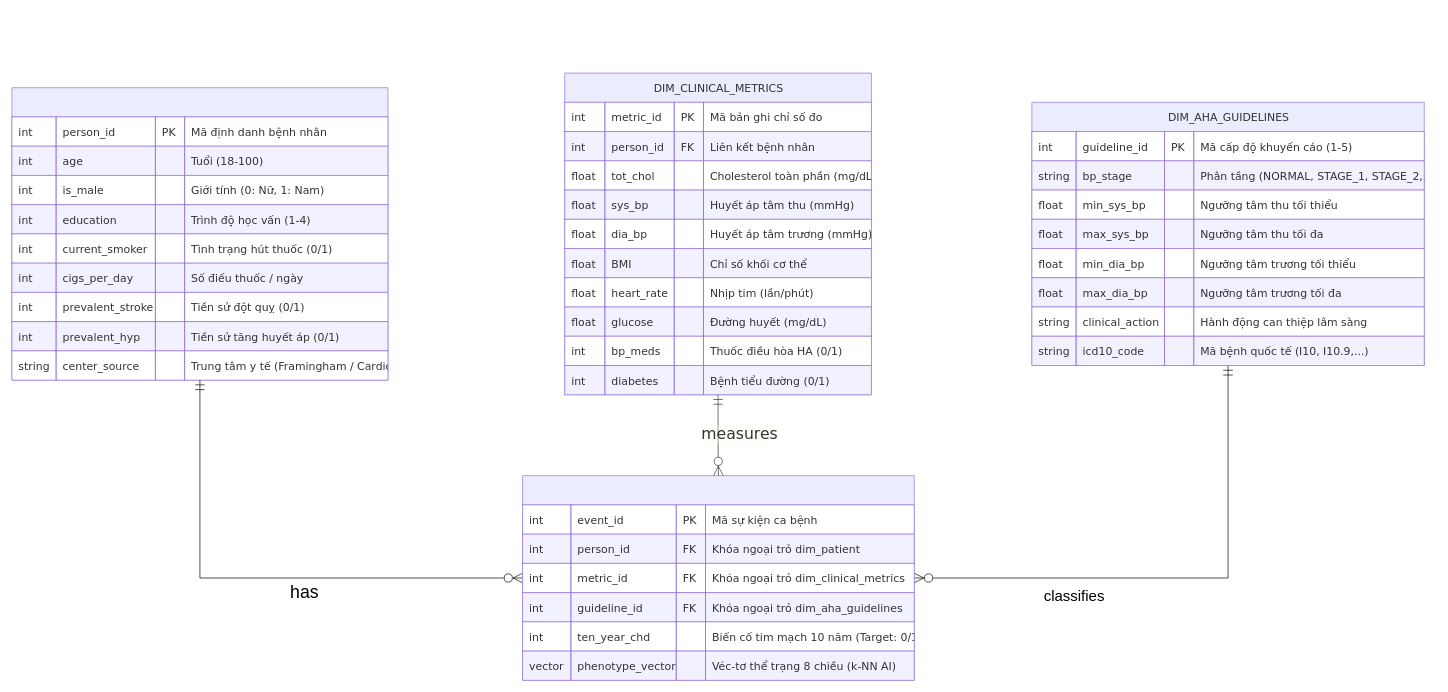
Some shapes in this 1448 by 692 pixel diagram are drawn without their labels. Here are the shapes that lost their labels. From the top down, the box of each, then its label:
(11, 87, 388, 380): DIM_PATIENT
(522, 475, 914, 680): FACT_CLINICAL_COHORT
